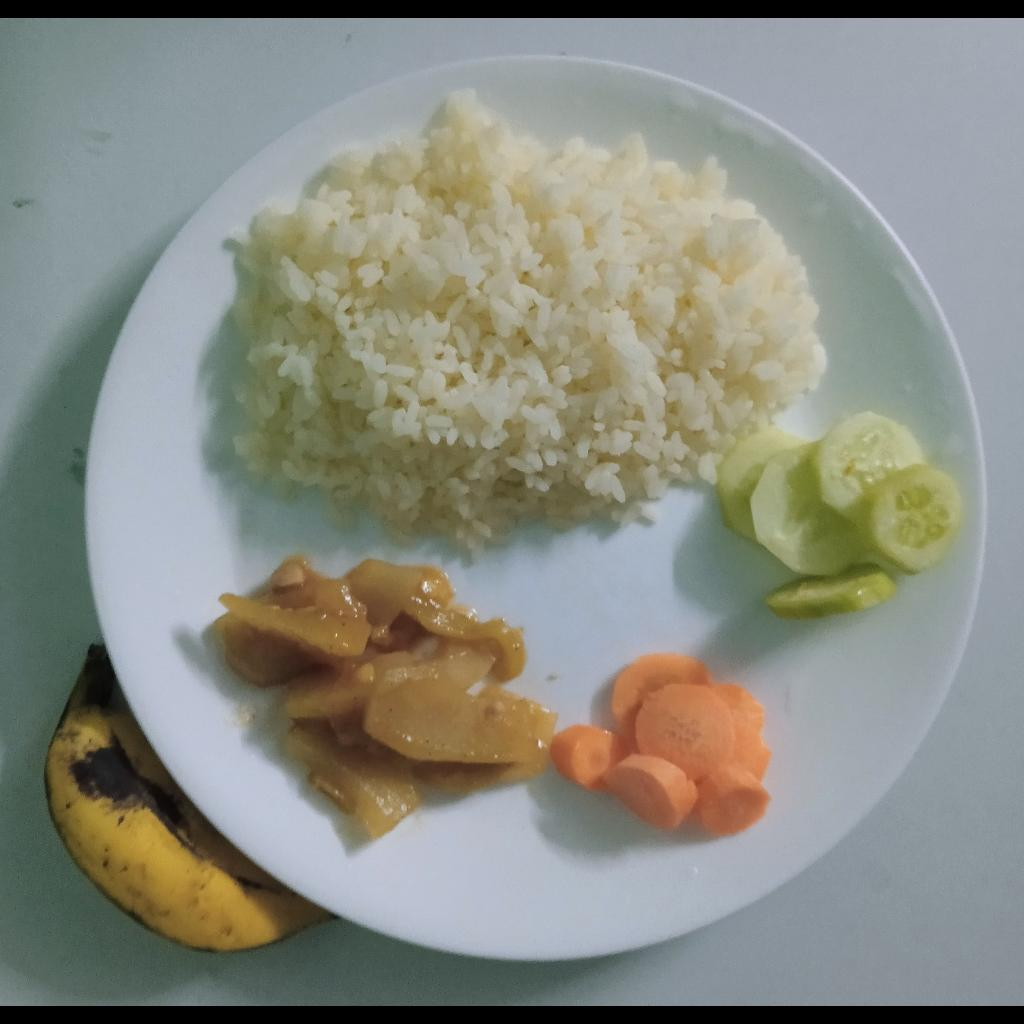banana: (44, 639, 339, 959)
carrot: (548, 653, 774, 838)
cucumber: (719, 409, 965, 621)
papaya: (214, 553, 557, 847)
rice: (229, 87, 833, 566)
